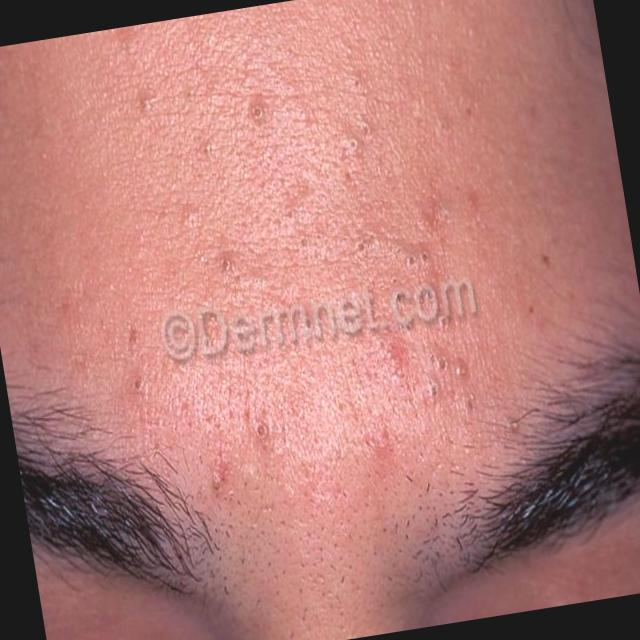blackhead: (124, 328, 139, 348), (220, 488, 236, 504), (255, 422, 268, 439), (131, 376, 145, 391), (138, 97, 151, 113), (251, 105, 264, 121), (207, 311, 220, 325), (202, 142, 214, 156), (540, 252, 550, 268), (182, 88, 195, 100), (220, 259, 232, 272), (211, 480, 223, 492), (394, 290, 406, 302), (304, 316, 314, 330), (439, 314, 448, 328), (420, 252, 430, 264), (510, 420, 520, 432), (466, 398, 474, 412), (438, 358, 447, 370), (356, 242, 366, 252), (300, 238, 310, 248), (464, 105, 473, 116), (353, 78, 362, 88), (361, 125, 369, 136), (528, 305, 536, 316), (430, 386, 438, 397), (378, 341, 387, 350), (404, 322, 412, 332), (408, 256, 416, 266), (348, 139, 356, 149), (429, 354, 436, 365), (242, 478, 250, 487), (470, 391, 476, 401), (391, 277, 398, 285), (428, 378, 433, 386), (426, 390, 430, 396), (401, 372, 405, 378)
